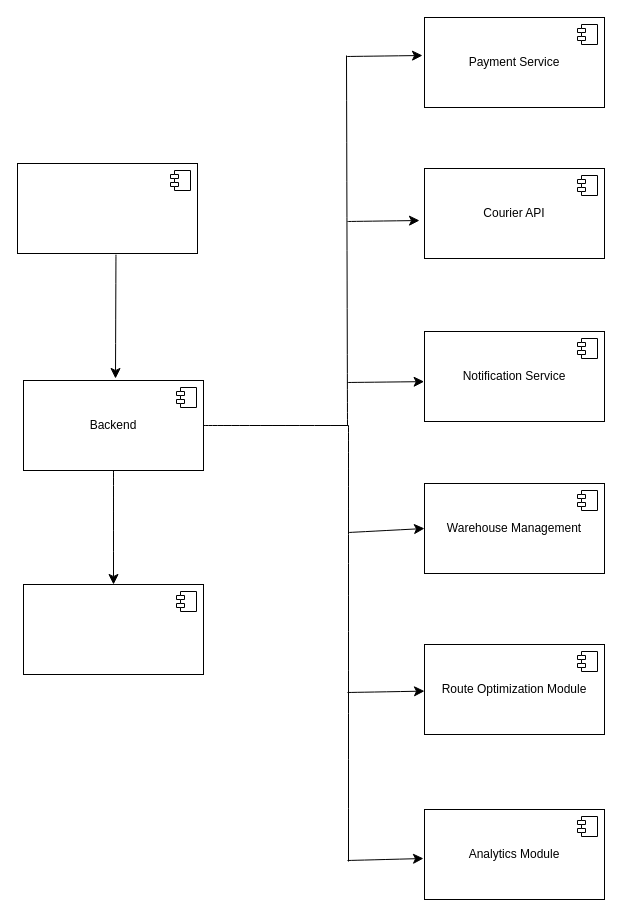
This 622x917 diagram has some shape labels left out. Here are the shapes that lost their labels. From the top down, the centre of each, then its label:
At point 107,208: "Frontend".
At point 113,629: "Database".
